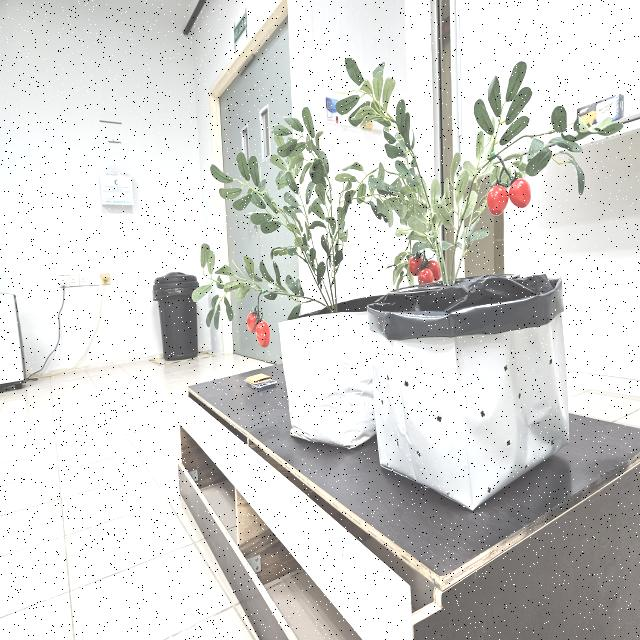Soilbag: (360, 276, 569, 512), (278, 298, 380, 451)
Tomato: (486, 175, 532, 221), (407, 248, 442, 286), (244, 309, 274, 351)
plant: (331, 58, 640, 288), (191, 107, 364, 349)
